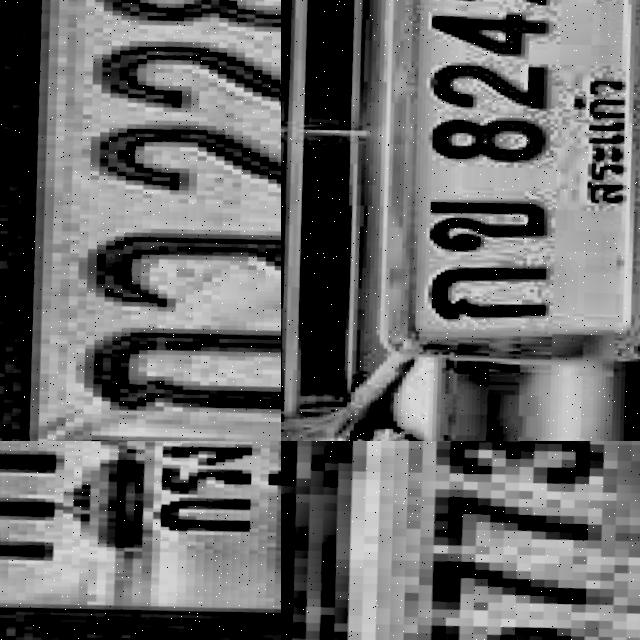license-plate: (0, 0, 281, 441), (335, 0, 640, 386), (281, 441, 640, 640), (0, 441, 281, 640)
